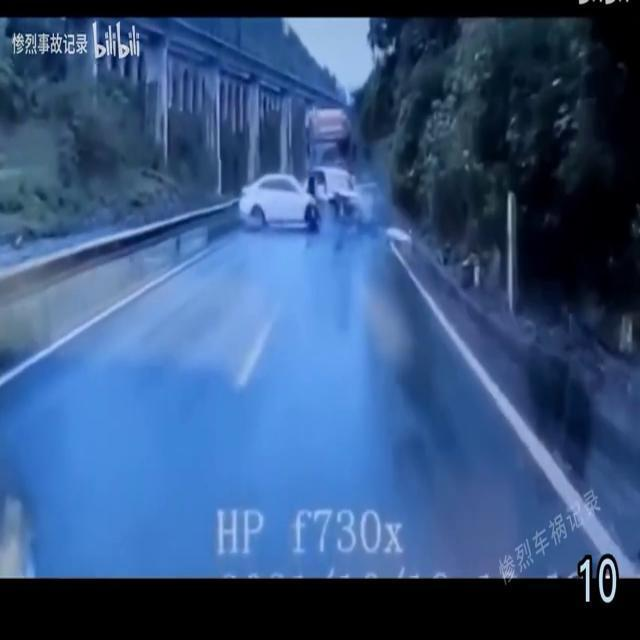accident: (238, 108, 364, 232), (238, 166, 366, 232)
